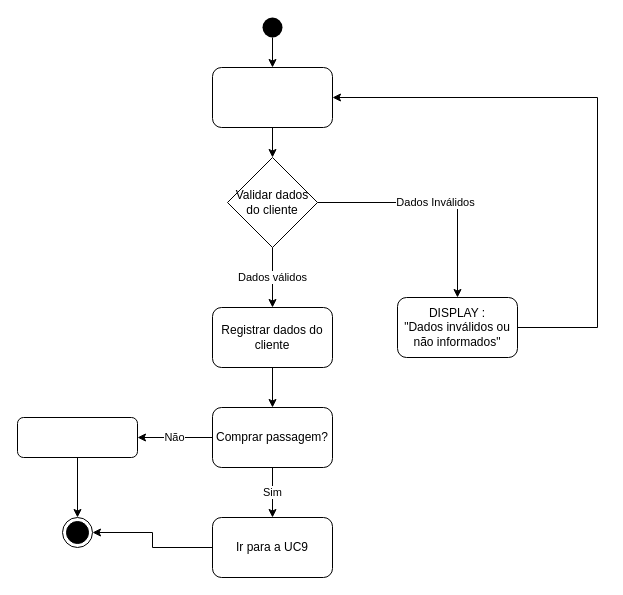
Some shapes in this 623 by 595 pixel diagram are drawn without their labels. The shapes that lost their labels are listed below. From the top down, each one's centre as x and y in pixels, then its label:
At [272,97]: "Informar dados do cliente".
At [77,437]: "Sair".
